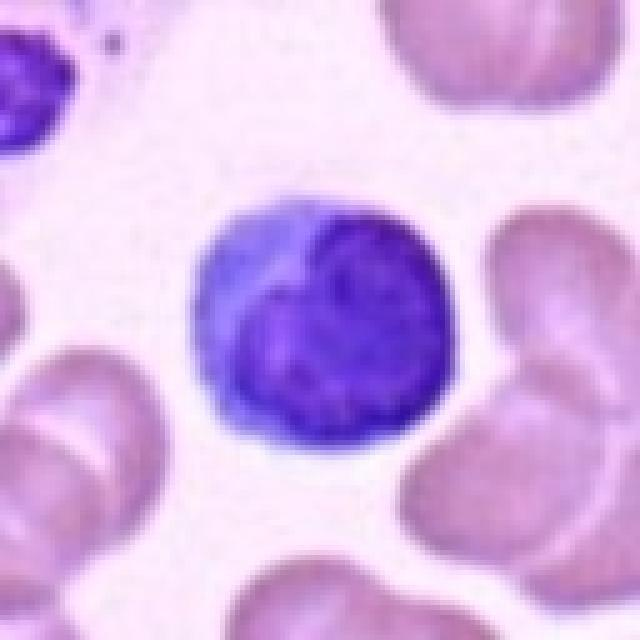lympho: (183, 183, 463, 460)
